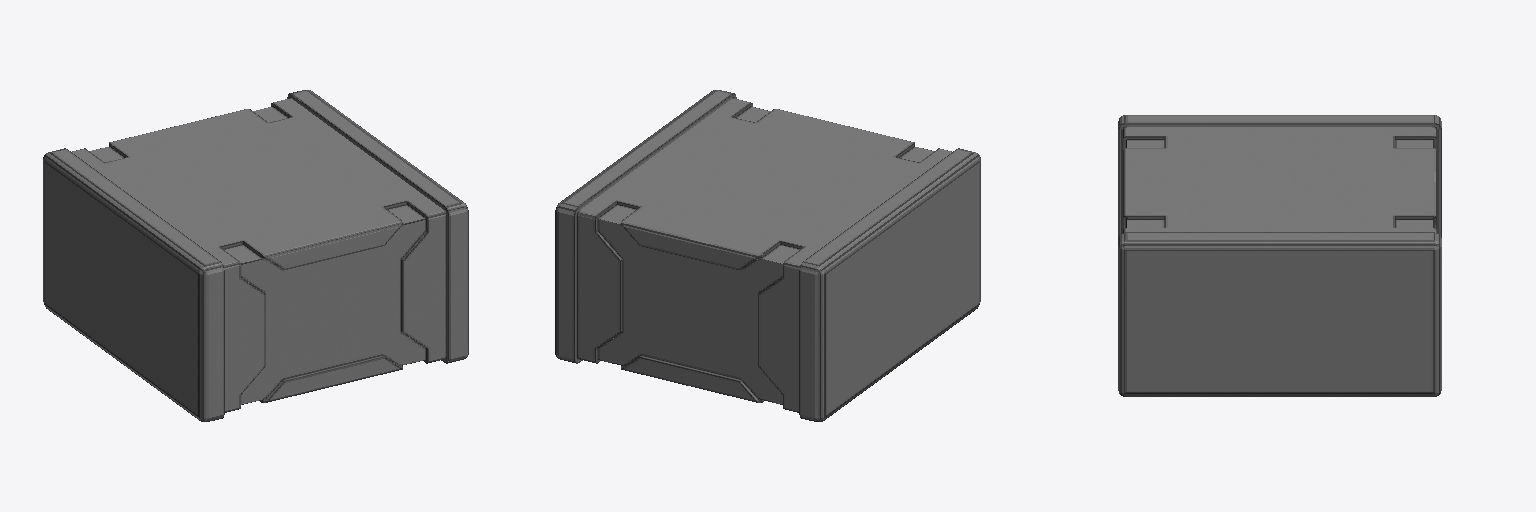
3 views of the same model, side by side, from view 1: azimuth 30°, elevation 25°; view 2: azimuth 150°, elevation 25°; view 3: azimuth 270°, elevation 25° (orthographic).
Parts seen in each view (by area): view 1: Terminator.obj; view 2: Terminator.obj; view 3: Terminator.obj.
Boxes of the visible parts, x1=… form: Terminator.obj: x1=43, y1=90, x2=468, y2=421; Terminator.obj: x1=555, y1=90, x2=980, y2=421; Terminator.obj: x1=1118, y1=115, x2=1441, y2=396.
Bounding box in the file's own units: 2.16 × 1.2 × 2.25.
1 materials, 1 textured.